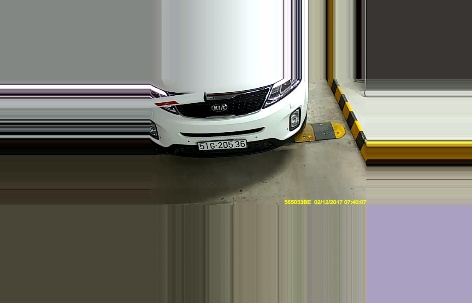plate: (194, 136, 249, 149)
